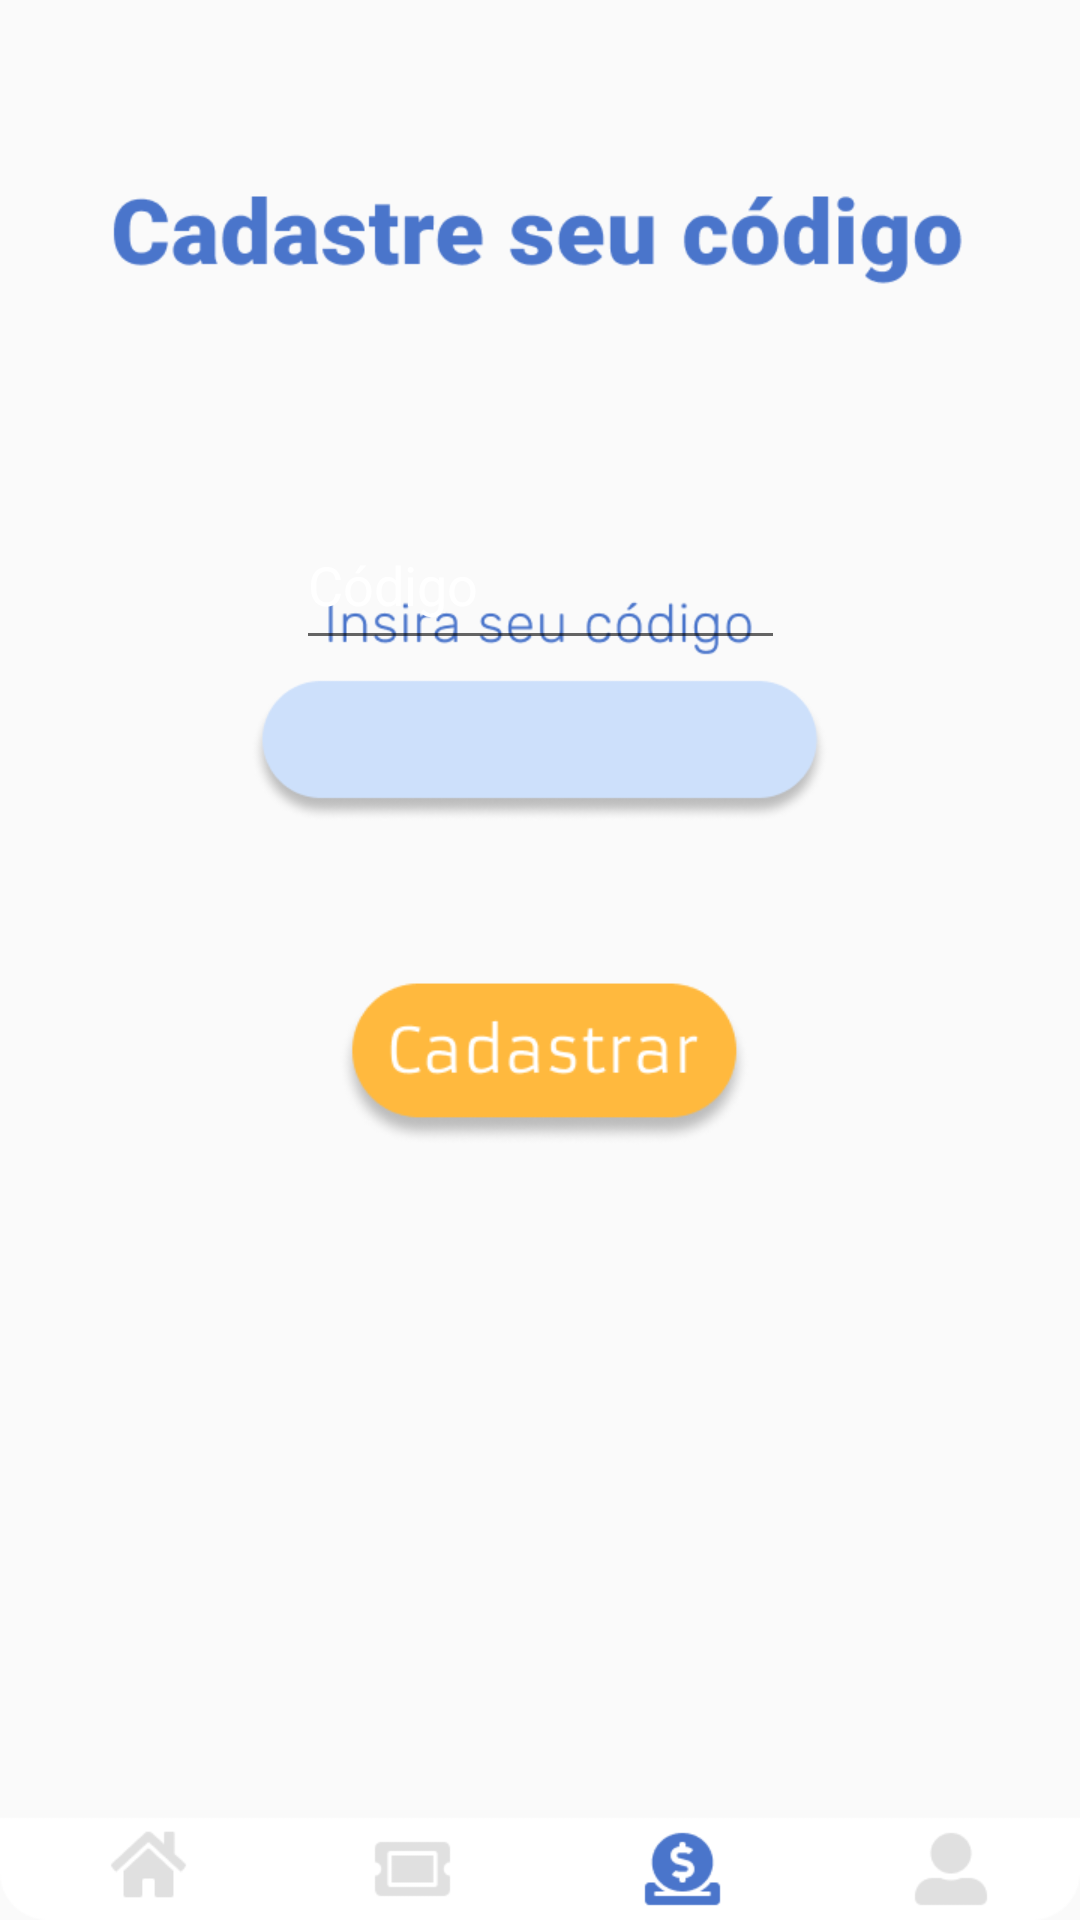

Where to tap for icons on this 1080px x 1920px app screen, as point (x, y):
home: point (148, 1864)
